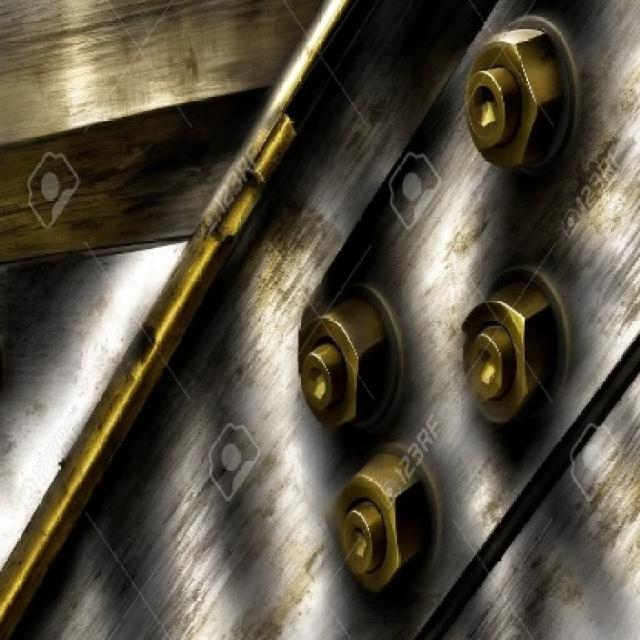Regular bolt: (466, 21, 580, 184), (326, 452, 453, 593), (291, 286, 413, 430), (451, 283, 571, 428)
